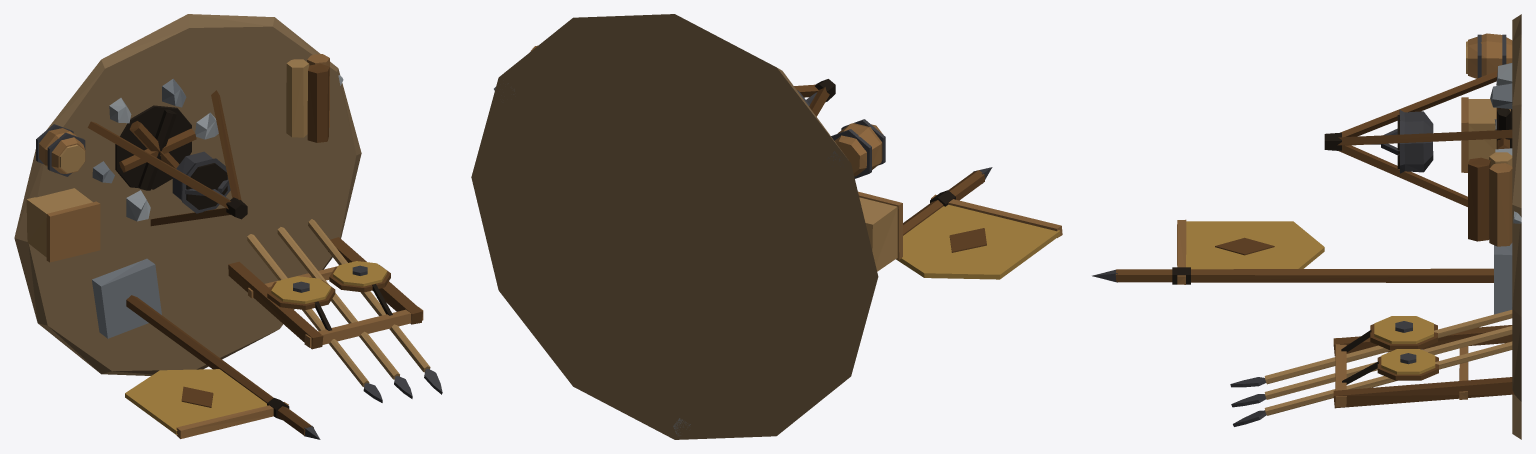
3 views of the same model, side by side, from view 1: azimuth 30°, elevation 25°; view 2: azimuth 150°, elevation 25°; view 3: azimuth 270°, elevation 25° (orthographic). The views are drawn at different scales.
Visible parts, largest first — view 1: wc_camp; view 2: wc_camp; view 3: wc_camp.
Boxes of the visible parts, bbox=[...] form: wc_camp: bbox=[14, 14, 442, 439]; wc_camp: bbox=[471, 14, 1062, 439]; wc_camp: bbox=[1092, 14, 1521, 439].
Size of the model in its own units: 2.51 by 2.51 by 2.53.
